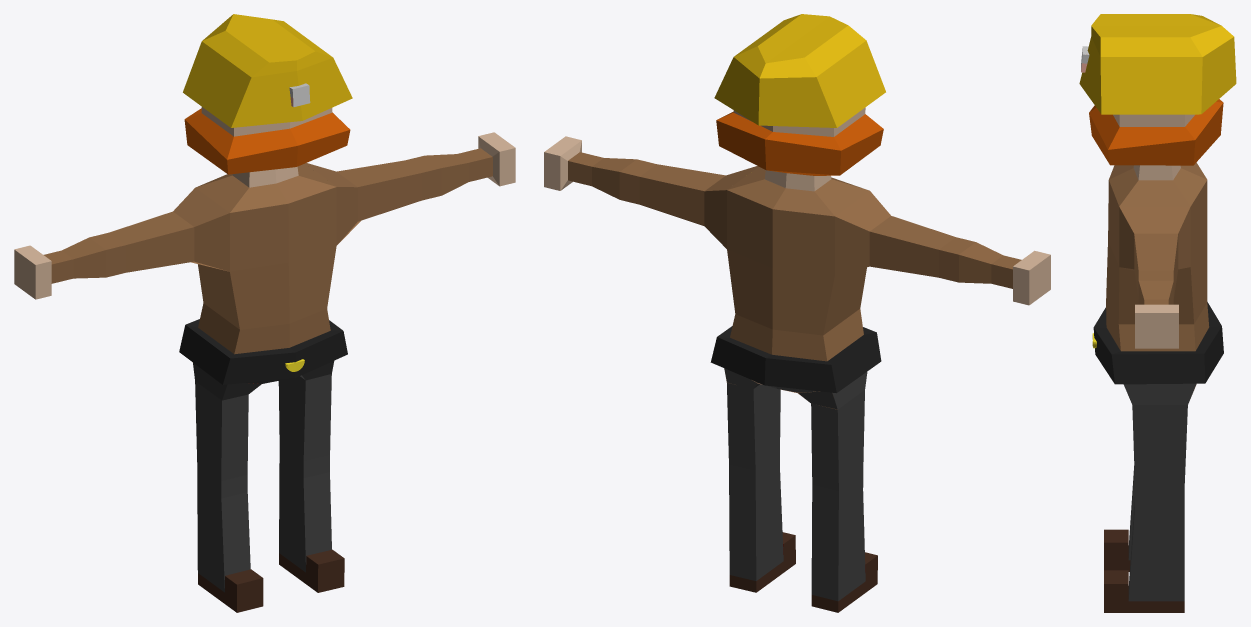
Rendered from Chara1.fbx.
3 views of the same model, side by side, from view 1: azimuth 30°, elevation 25°; view 2: azimuth 150°, elevation 25°; view 3: azimuth 270°, elevation 25° (orthographic). The views are drawn at different scales.
Parts seen in each view (by area): view 1: Chara 1; view 2: Chara 1; view 3: Chara 1.
Boxes of the visible parts, box(x1,y1,x2,y2) form: Chara 1: box(14, 14, 515, 612); Chara 1: box(544, 14, 1050, 612); Chara 1: box(1079, 14, 1236, 612).
Bounding box in the file's own units: 141 × 153 × 38.91.
